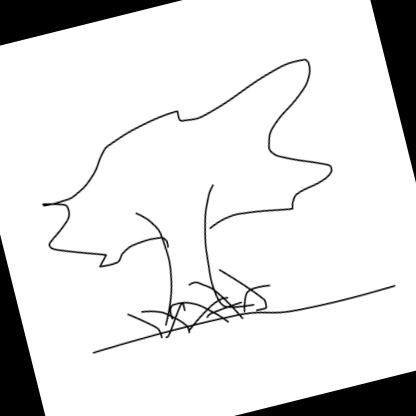crown_dizzy: (19, 57, 346, 278)
root_none: (134, 280, 274, 374)
trunk_straight: (156, 242, 221, 305)
